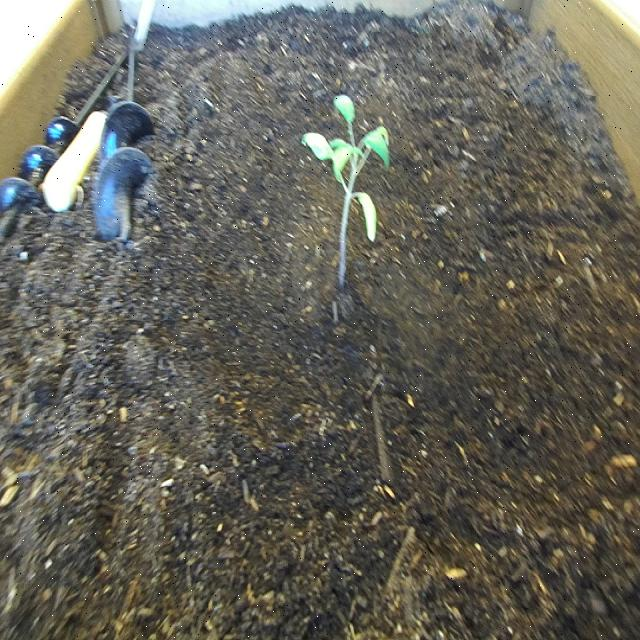Healthy: (300, 90, 392, 292)
